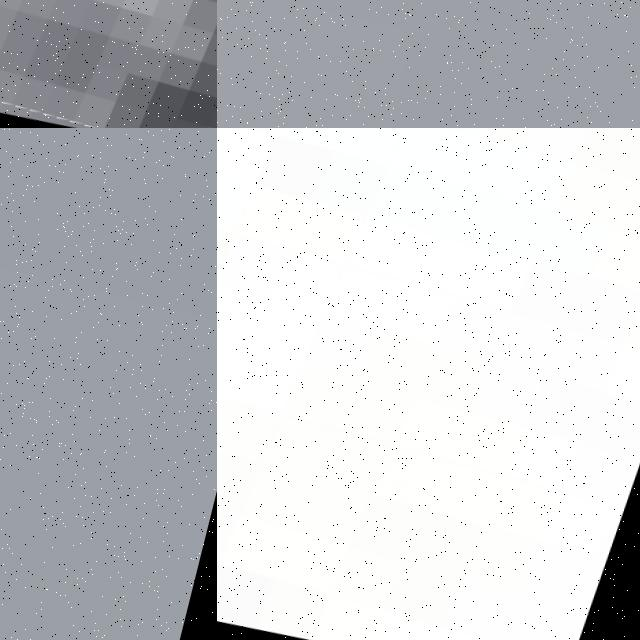0: (0, 0, 217, 128)
drone: (217, 128, 640, 640)
